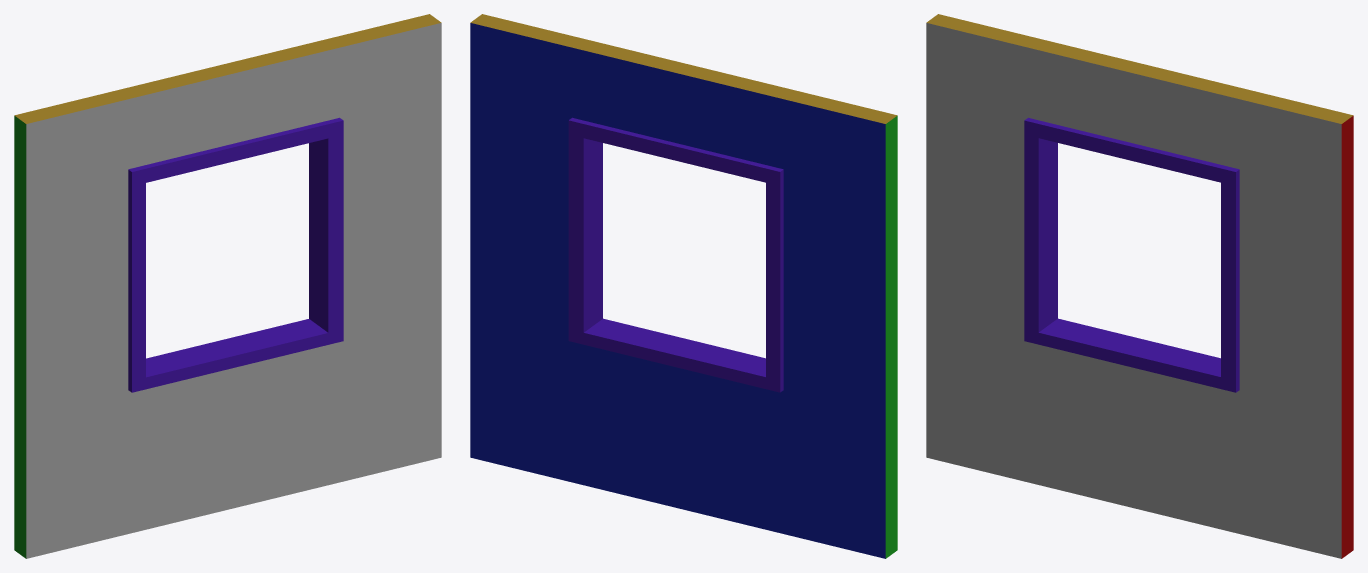
The model's file is Wall_Window_02b.fbx.
3 renders of one model, left to right at view 1: azimuth 30°, elevation 25°; view 2: azimuth 150°, elevation 25°; view 3: azimuth 330°, elevation 25°, orthographic.
Parts seen in each view (by area): view 1: Wall_Window_02b; view 2: Wall_Window_02b; view 3: Wall_Window_02b.
Part boxes in pixels (x1,y1,x2,y2): Wall_Window_02b: (14, 14, 441, 558); Wall_Window_02b: (470, 14, 897, 558); Wall_Window_02b: (926, 14, 1353, 558).
Size of the model in its own units: 3 by 0.242 by 3.
